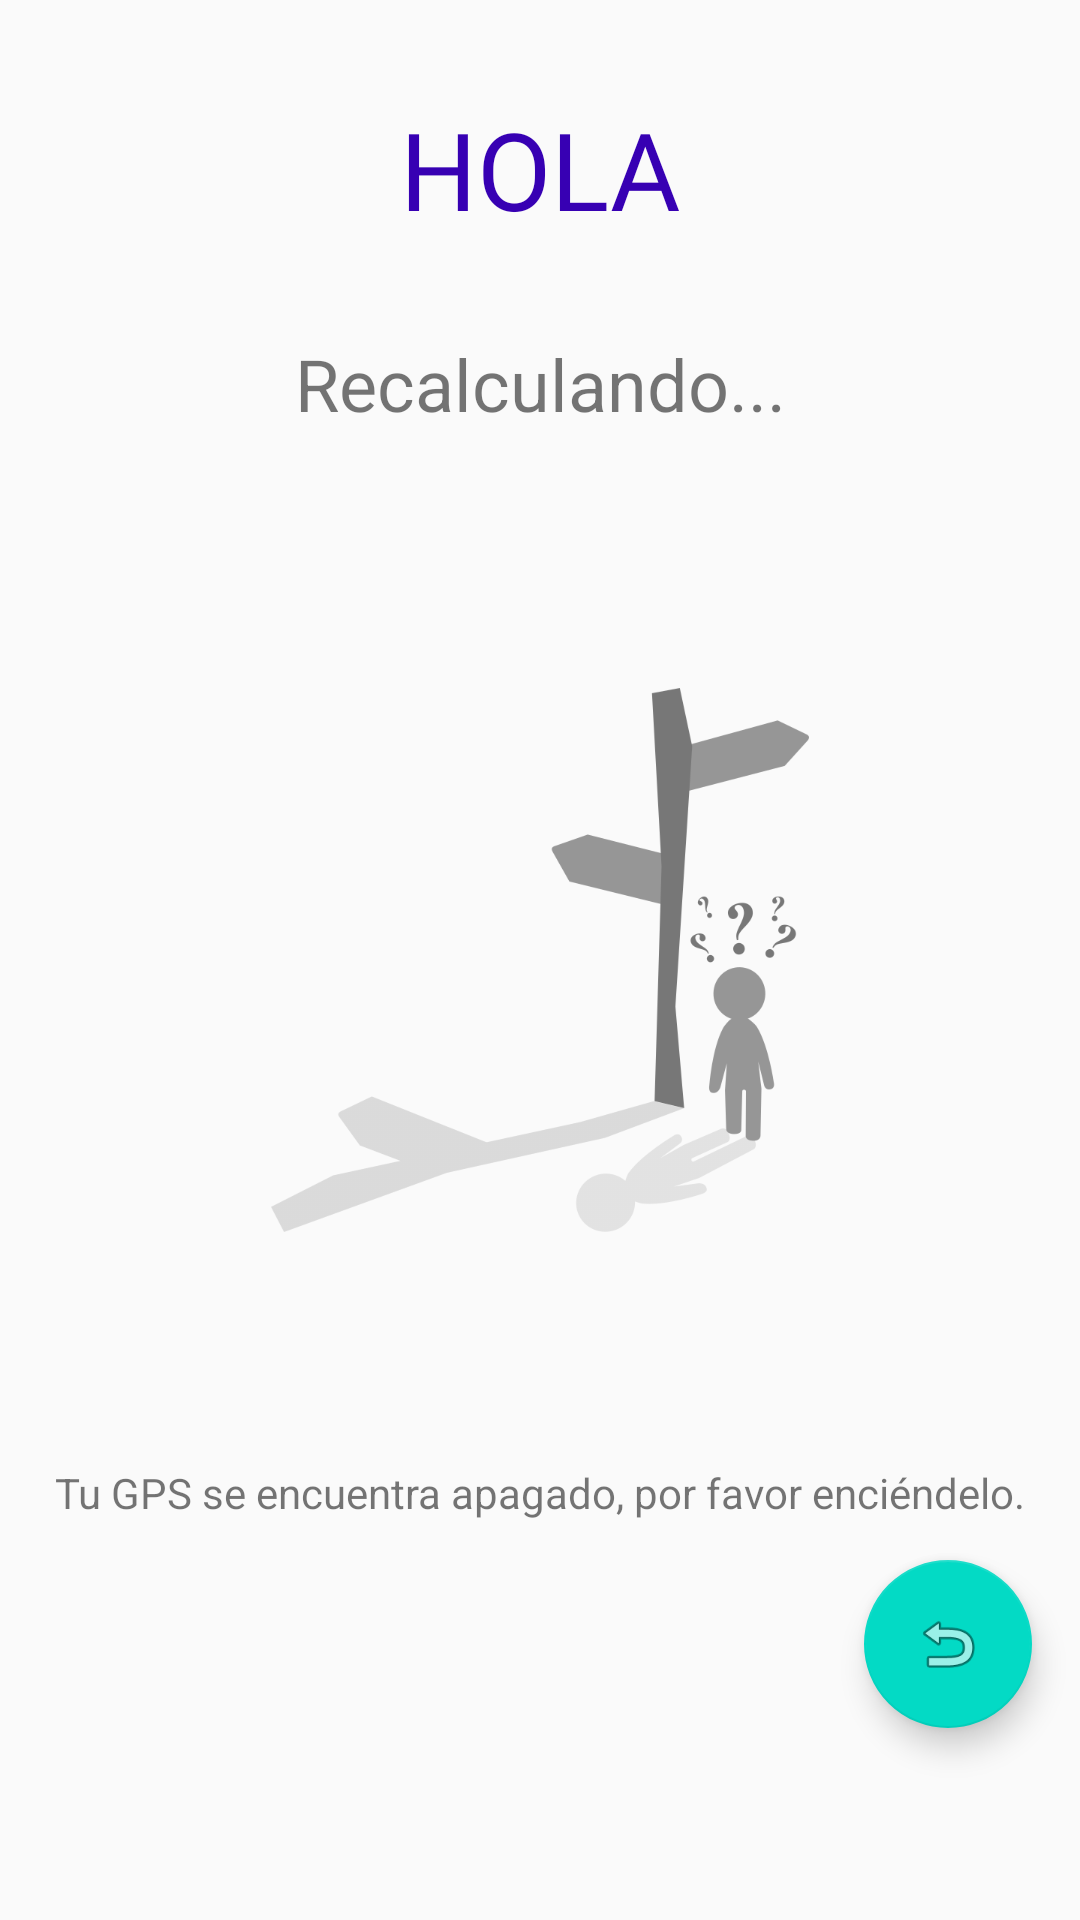

Screen size 1080x1920. Icon name, then its box in pixels as (x1, y1, x2, y2):
revert: (864, 1560, 1032, 1728)
